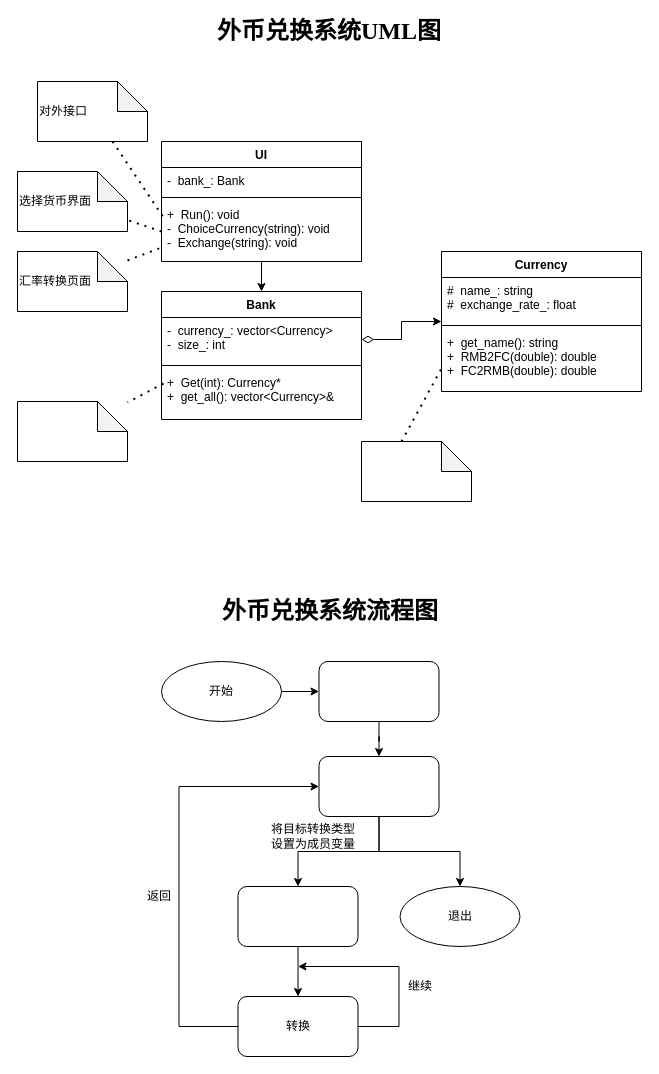
Some shapes in this 659 by 1074 pixel diagram are drawn without their labels. Each missing label, with the centre of its shape:
从文件读取汇率: pixel 378 691
根据索引返回 货币对象指针: pixel 72 431
汇率转换方法: pixel 416 471
选择货币: pixel 297 916
选择转换类型: pixel 378 786
